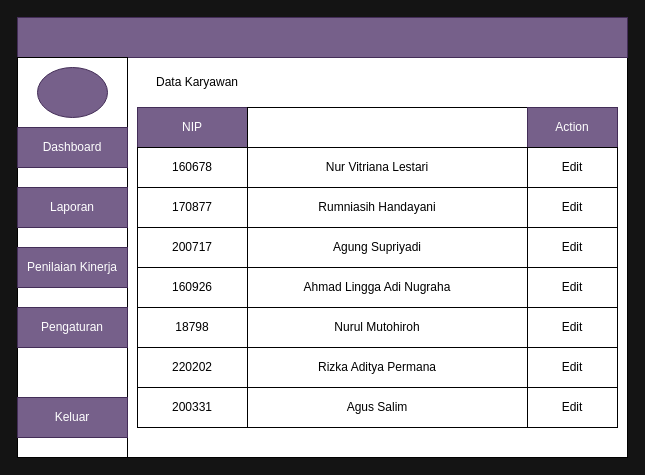
The diagram is 645 pixels wide and 475 high, and some of its shapes have lost their labels. Here are the shapes that lost their labels. From the top down, the centre of each, then its label:
At [322,37]: "Sistem Informasi Karyawan".
At [72,92]: "Logo".
At [387,127]: "Nama Karyawan".
